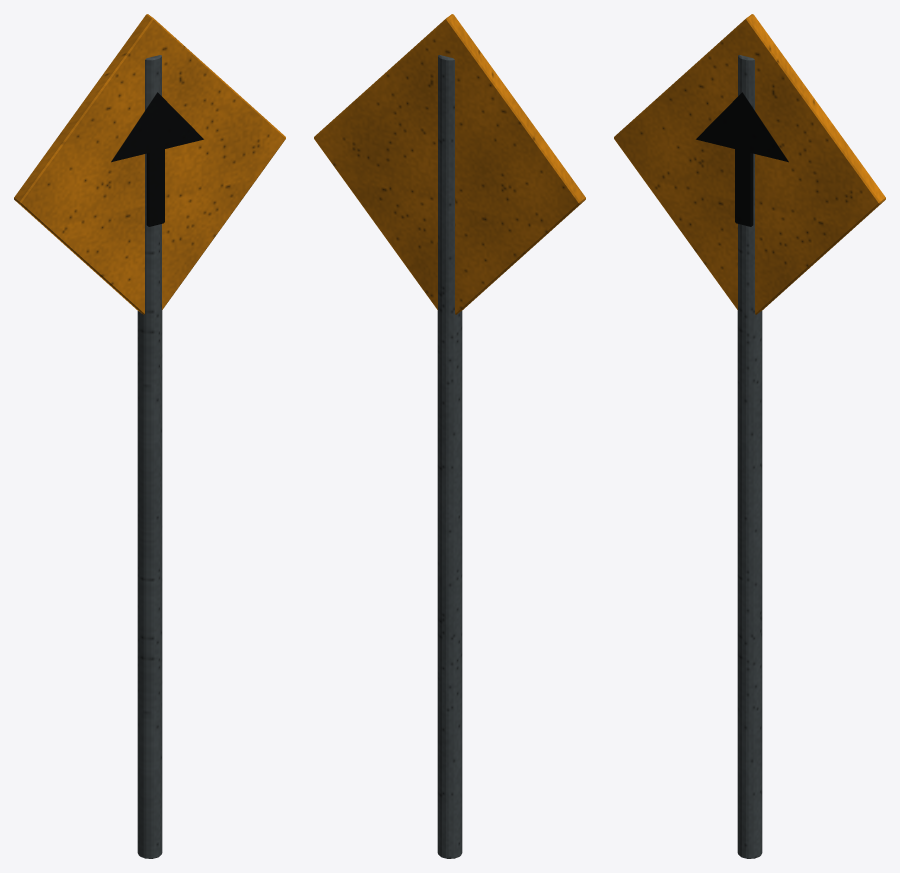
File: PROP-D41961B709AF_lod1.glb
3 renders of one model, left to right at view 1: azimuth 30°, elevation 25°; view 2: azimuth 150°, elevation 25°; view 3: azimuth 330°, elevation 25°, orthographic.
Visible parts, largest first — view 1: shaped_sign_plate.006, sign_post.021, direction_symbol.016, symbol_stem.016; view 2: shaped_sign_plate.006, sign_post.021; view 3: shaped_sign_plate.006, sign_post.021, direction_symbol.016, symbol_stem.016.
Boxes of the visible parts, box(x1,y1,x2,y2) form: shaped_sign_plate.006: box(14, 14, 285, 314); sign_post.021: box(137, 55, 162, 858); direction_symbol.016: box(111, 92, 203, 162); symbol_stem.016: box(146, 149, 164, 226); shaped_sign_plate.006: box(314, 14, 585, 314); sign_post.021: box(437, 55, 462, 858); shaped_sign_plate.006: box(614, 14, 885, 314); sign_post.021: box(737, 55, 762, 858); direction_symbol.016: box(696, 92, 788, 162); symbol_stem.016: box(735, 149, 753, 226).
Bounding box in the file's own units: 0.8526 × 2.57 × 0.0753.
3 materials, 3 textured.
